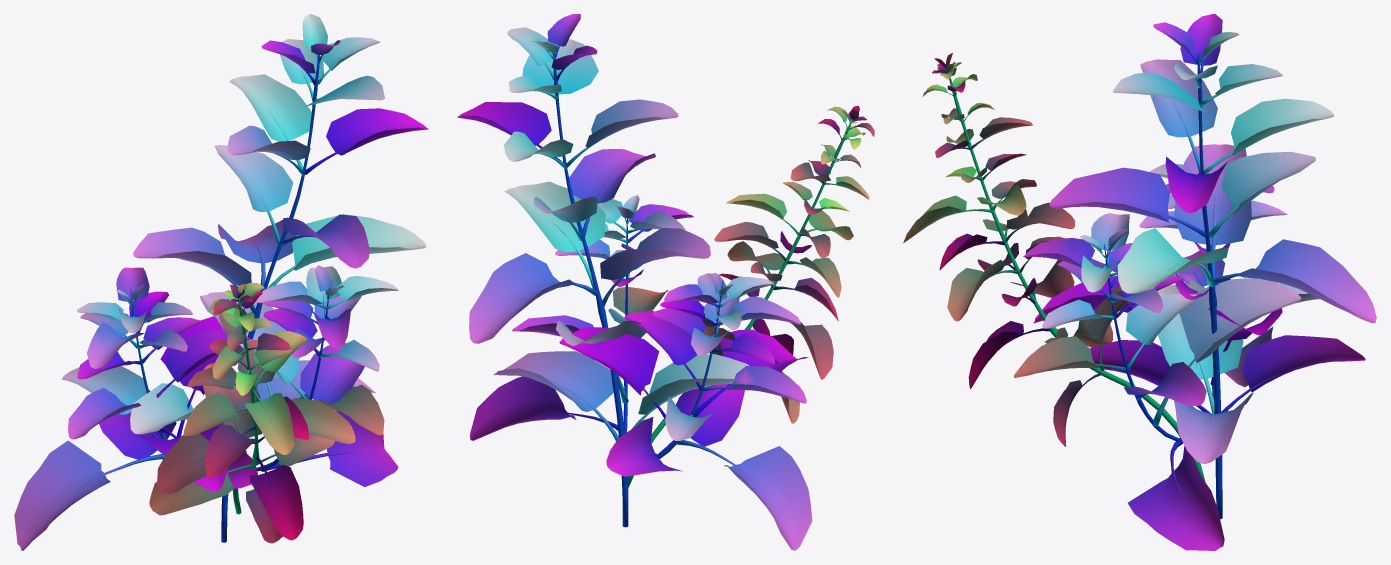
File: Lemon_Balm_umslacdia_Mid_umslacdia_VarE_LOD0.fbx
The picture shows the model from 3 angles, left to right: view 1: azimuth 30°, elevation 25°; view 2: azimuth 150°, elevation 25°; view 3: azimuth 270°, elevation 25°; orthographic projection. The views are drawn at different scales.
Parts seen in each view (by area): view 1: _evbh_VarE_LOD1; view 2: _evbh_VarE_LOD1; view 3: _evbh_VarE_LOD1.
Part boxes in pixels (box(x1,y1,x2,y2)): _evbh_VarE_LOD1: box(14, 14, 428, 550); _evbh_VarE_LOD1: box(457, 14, 874, 550); _evbh_VarE_LOD1: box(903, 14, 1376, 550).
Size of the model in its own units: 55.16 by 68.61 by 55.09.
